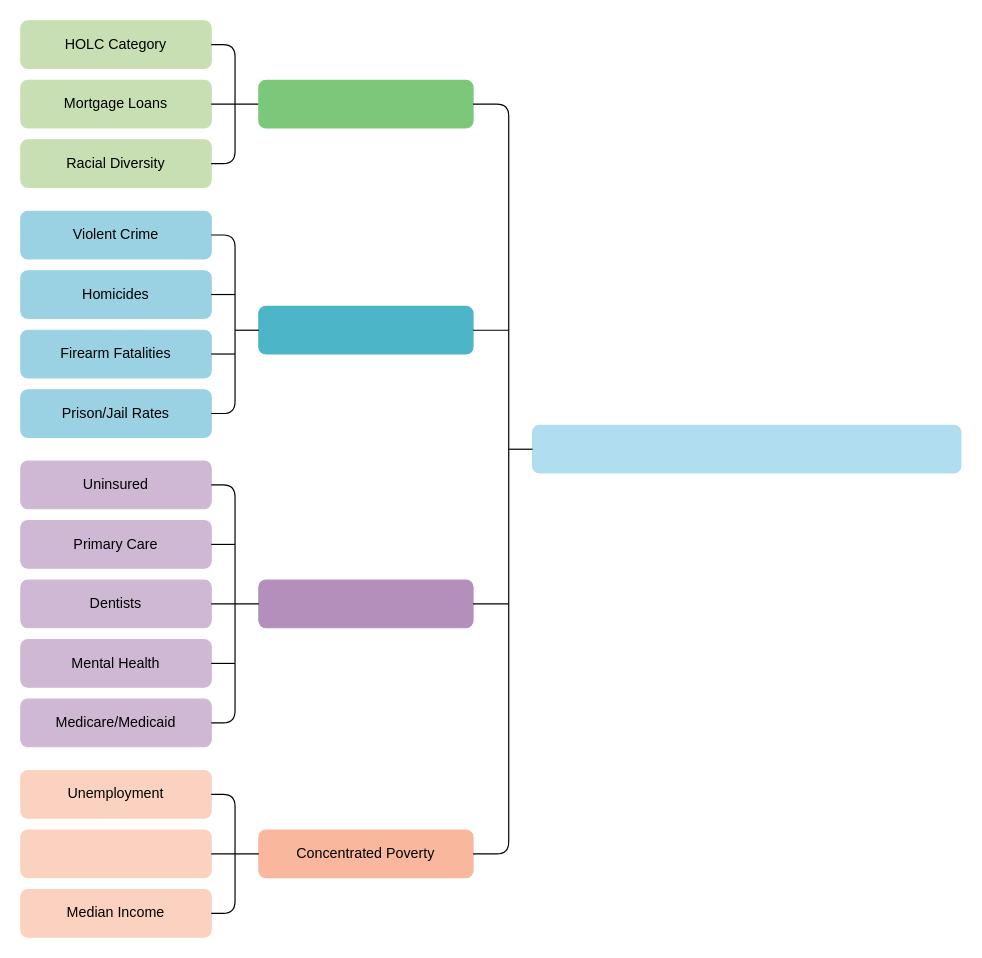
Image size: 982x958. Some labels were removed from this diagram. The centre of each missing label's shape, as x and y in pixels:
"Income inequality" belongs at point (115, 853).
"Multidimensional Structural Racism and Discrimination Index" belongs at point (746, 448).
"Redlining Racial Segregation" belongs at point (365, 103).
"Unequal Medical Resources" belongs at point (365, 603).
"Violence Incarceration" belongs at point (365, 329).
